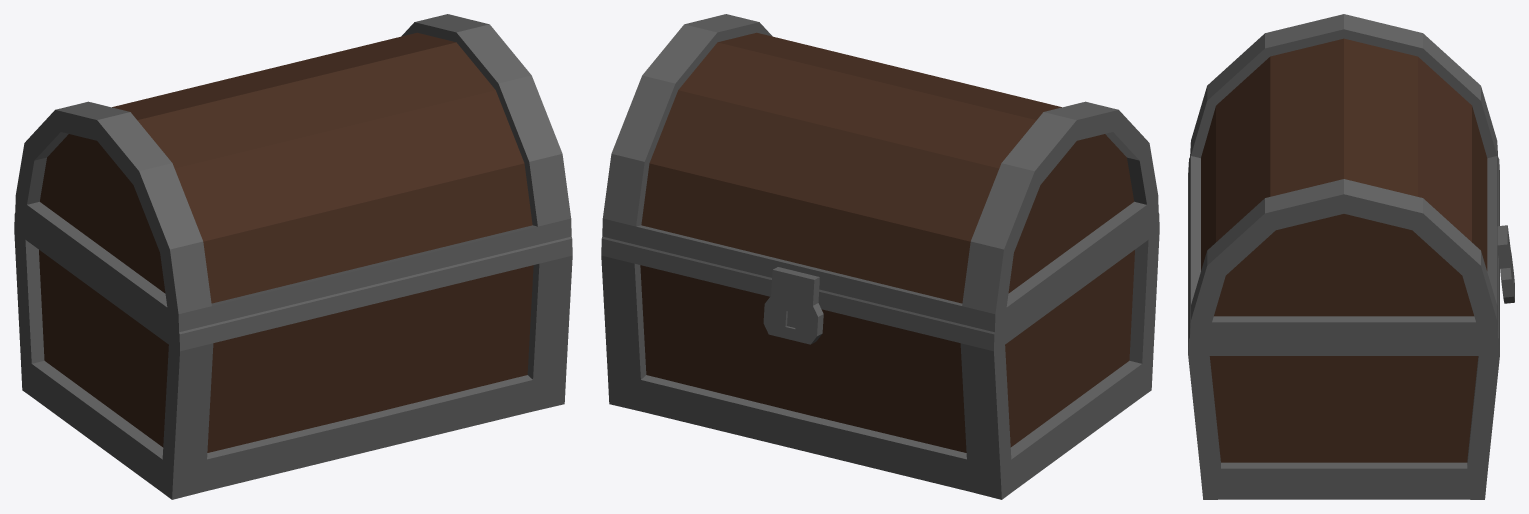
File: chest.fbx
The picture shows the model from 3 angles, left to right: view 1: azimuth 30°, elevation 25°; view 2: azimuth 150°, elevation 25°; view 3: azimuth 270°, elevation 25°; orthographic projection. The views are drawn at different scales.
Visible parts, largest first — view 1: chest; view 2: chest, lock; view 3: chest, lock.
Part boxes in pixels (<box>): chest: <box>14,14,572,499</box>; chest: <box>601,14,1159,499</box>; lock: <box>763,267,823,344</box>; chest: <box>1188,14,1499,499</box>; lock: <box>1497,225,1514,303</box>.
Size of the model in its own units: 376 by 297 by 288.
